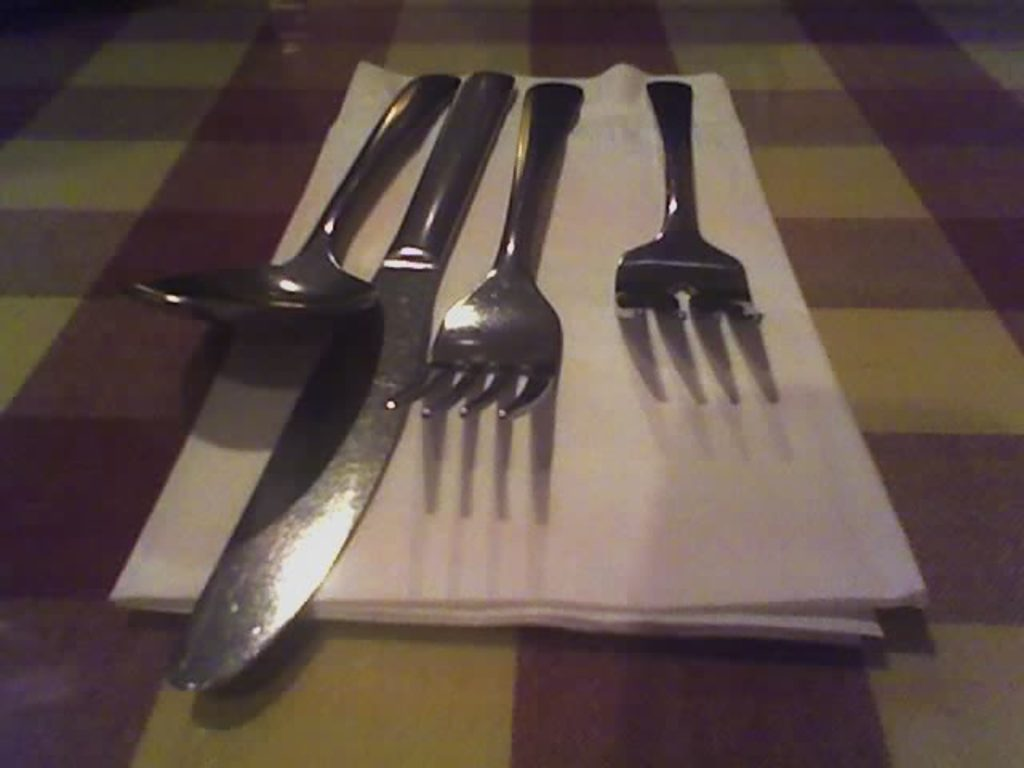fork: (383, 81, 584, 421), (614, 80, 764, 323)
